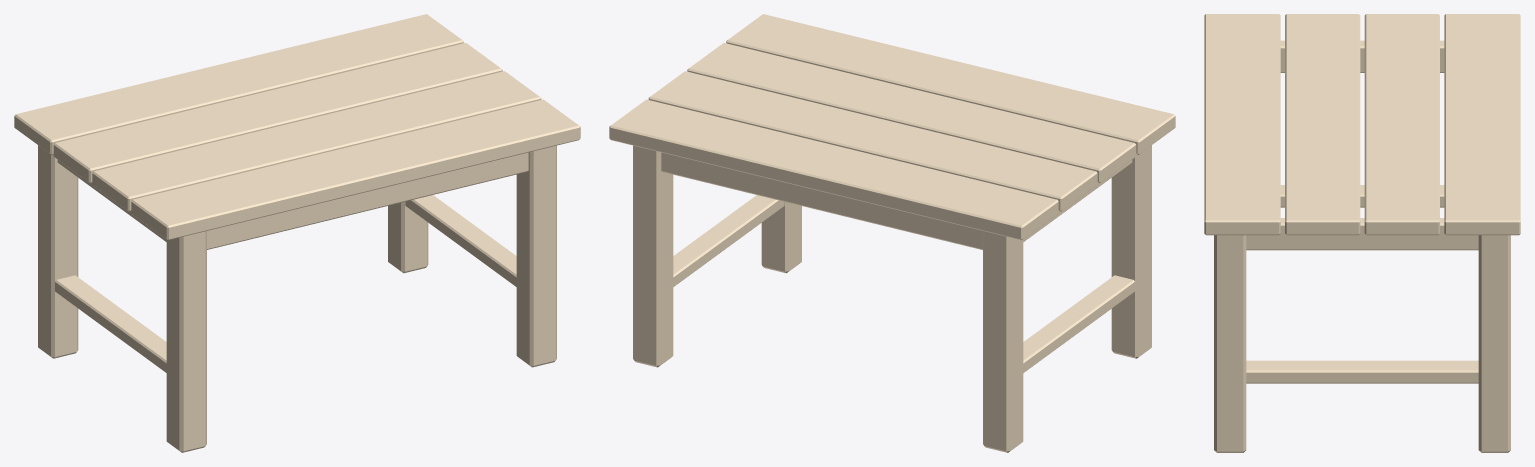
Rendered from Table_1.fbx.
3 views of the same model, side by side, from view 1: azimuth 30°, elevation 25°; view 2: azimuth 150°, elevation 25°; view 3: azimuth 270°, elevation 25° (orthographic). The views are drawn at different scales.
Visible parts, largest first — view 1: Table_1; view 2: Table_1; view 3: Table_1.
Boxes of the visible parts, x1,y1,x2,y2 form: Table_1: (14, 14, 580, 452); Table_1: (609, 14, 1175, 452); Table_1: (1204, 14, 1520, 452).
Bounding box in the file's own units: 120 × 65.3 × 77.27.
1 material, 1 textured.
